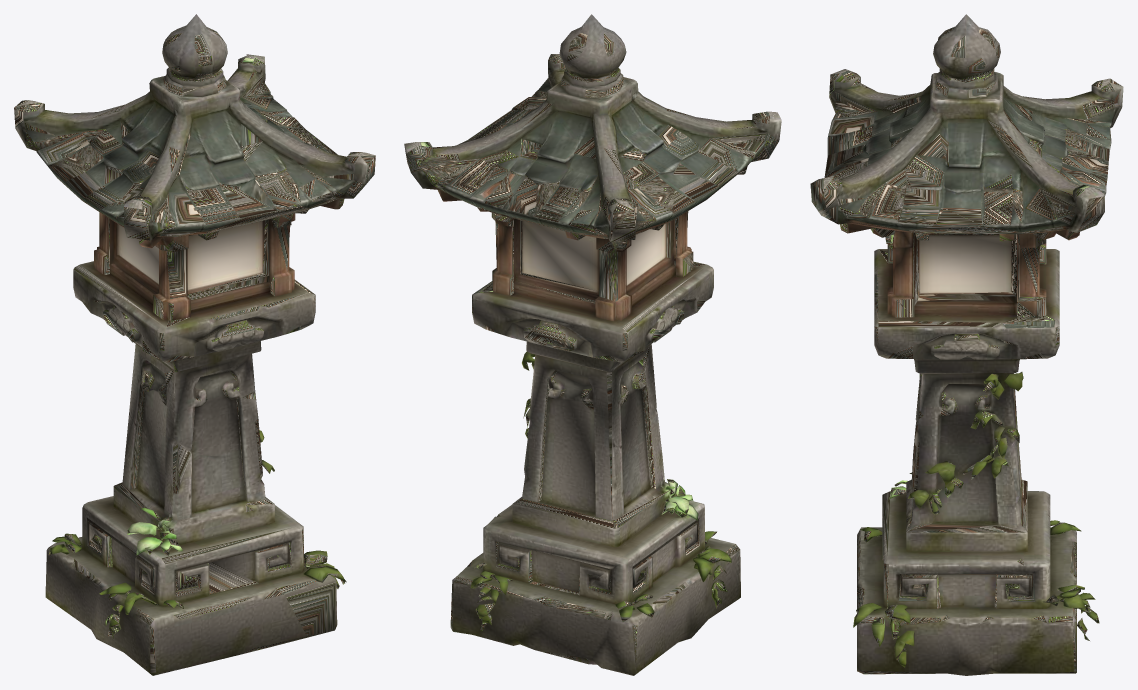
File: prop_den_da.bc410d472f.glb
3 renders of one model, left to right at view 1: azimuth 30°, elevation 25°; view 2: azimuth 150°, elevation 25°; view 3: azimuth 270°, elevation 25°, orthographic. The views are drawn at different scales.
Visible parts, largest first — view 1: prop_den_da; view 2: prop_den_da; view 3: prop_den_da.
Boxes of the visible parts, left/top/right/bottom form: prop_den_da: left=14, top=14, right=375, bottom=675; prop_den_da: left=404, top=14, right=781, bottom=675; prop_den_da: left=810, top=14, right=1123, bottom=675.
Size of what is drawn, in the model's own units: 1.27 by 2.8 by 1.29.
1 material, 1 textured.
